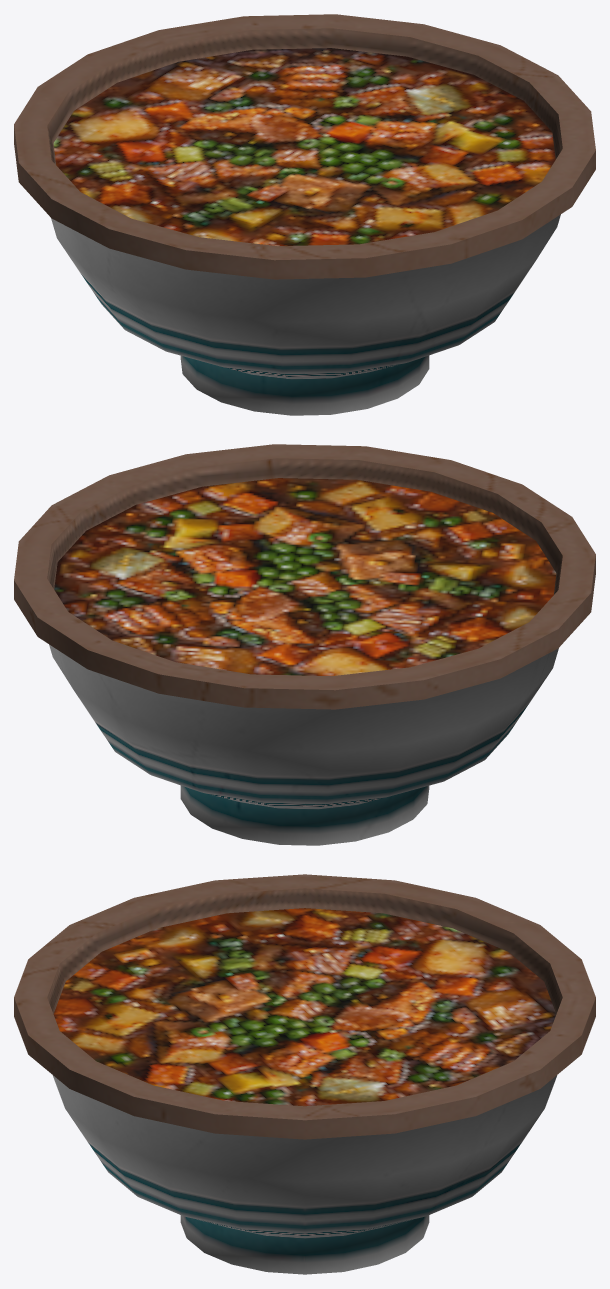
The model's file is CP_Plate_04.fbx.
3 views of the same model, one above another, from view 1: azimuth 30°, elevation 25°; view 2: azimuth 150°, elevation 25°; view 3: azimuth 270°, elevation 25° (orthographic).
Parts seen in each view (by area): view 1: CP_Plate_04_LOD0; view 2: CP_Plate_04_LOD0; view 3: CP_Plate_04_LOD0.
Part boxes in pixels (x1,y1,x2,y2): CP_Plate_04_LOD0: (14,14,595,415); CP_Plate_04_LOD0: (14,444,595,845); CP_Plate_04_LOD0: (14,874,595,1274).
Size of what is drawn, in the model's own units: 26.28 by 11.19 by 26.28.
